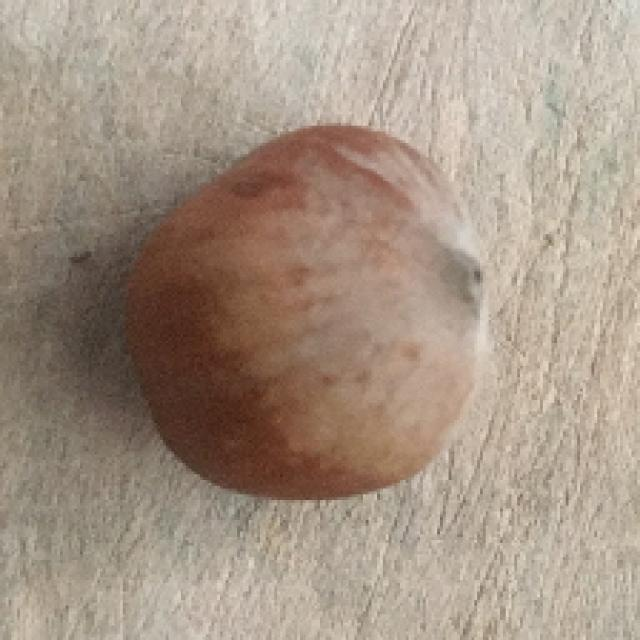qualityHazelnut: (121, 106, 507, 513)
